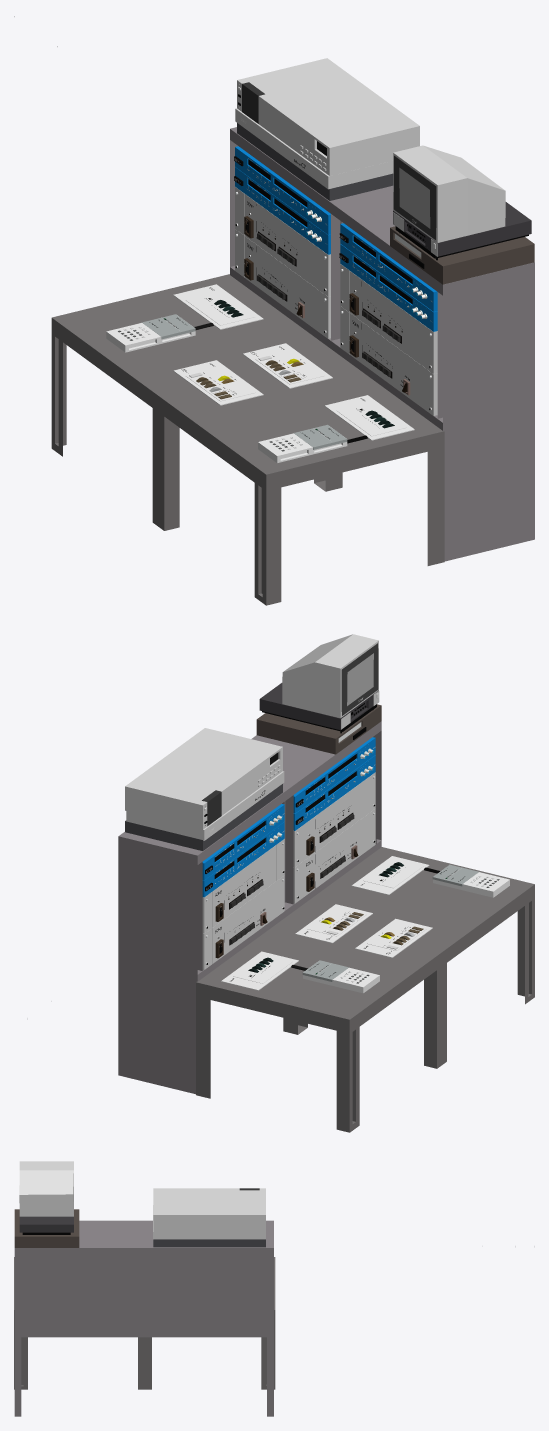
The model's file is objek1.fbx.
3 renders of one model, top to bottom at view 1: azimuth 30°, elevation 25°; view 2: azimuth 150°, elevation 25°; view 3: azimuth 270°, elevation 25°, orthographic. The views are drawn at different scales.
Parts seen in each view (by area): view 1: Cube, Cube.001, Cube.068, Cube.099, Cube.086, Cube.028, Cube.002, Cube.051, Cube.027, Cube.067, Cube.095, Cube.061 (+18 smaller); view 2: Cube, Cube.001, Cube.068, Cube.099, Cube.086, Cube.051, Cube.027, Cube.028, Cube.002, Cube.067, Cube.066, Cube.095 (+18 smaller); view 3: Cube.001, Cube.068, Cube.099, Cube, Cube.086, Cube.066, Cube.095, Cube.067.
Part boxes in pixels (x1,y1,x2,y2): Cube: [51, 274, 444, 605]; Cube.001: [230, 127, 534, 561]; Cube.068: [237, 58, 419, 175]; Cube.099: [393, 145, 505, 242]; Cube.086: [390, 226, 534, 284]; Cube.028: [244, 194, 318, 289]; Cube.002: [244, 236, 318, 331]; Cube.051: [350, 271, 423, 366]; Cube.027: [350, 313, 423, 408]; Cube.067: [235, 108, 393, 189]; Cube.095: [393, 202, 531, 256]; Cube.061: [340, 223, 437, 311]; Cube: [196, 847, 534, 1132]; Cube.001: [118, 721, 381, 1094]; Cube.068: [125, 728, 282, 829]; Cube.099: [282, 634, 378, 718]; Cube.086: [256, 704, 381, 754]; Cube.051: [303, 778, 367, 860]; Cube.027: [303, 815, 367, 897]; Cube.028: [212, 845, 276, 927]; Cube.002: [212, 881, 276, 963]; Cube.067: [126, 771, 284, 840]; Cube.066: [125, 784, 282, 850]; Cube.095: [259, 683, 378, 730]; Cube.001: [14, 1220, 273, 1416]; Cube.068: [153, 1188, 265, 1232]; Cube.099: [19, 1161, 73, 1216]; Cube: [14, 1257, 275, 1389]; Cube.086: [14, 1209, 79, 1247]; Cube.066: [153, 1239, 265, 1247]; Cube.095: [19, 1216, 73, 1232]; Cube.067: [153, 1205, 265, 1239].
Bounding box in the file's own units: 588 × 778 × 1614.
